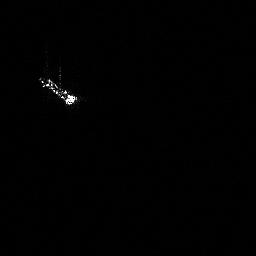ship: (35, 73, 81, 108)
